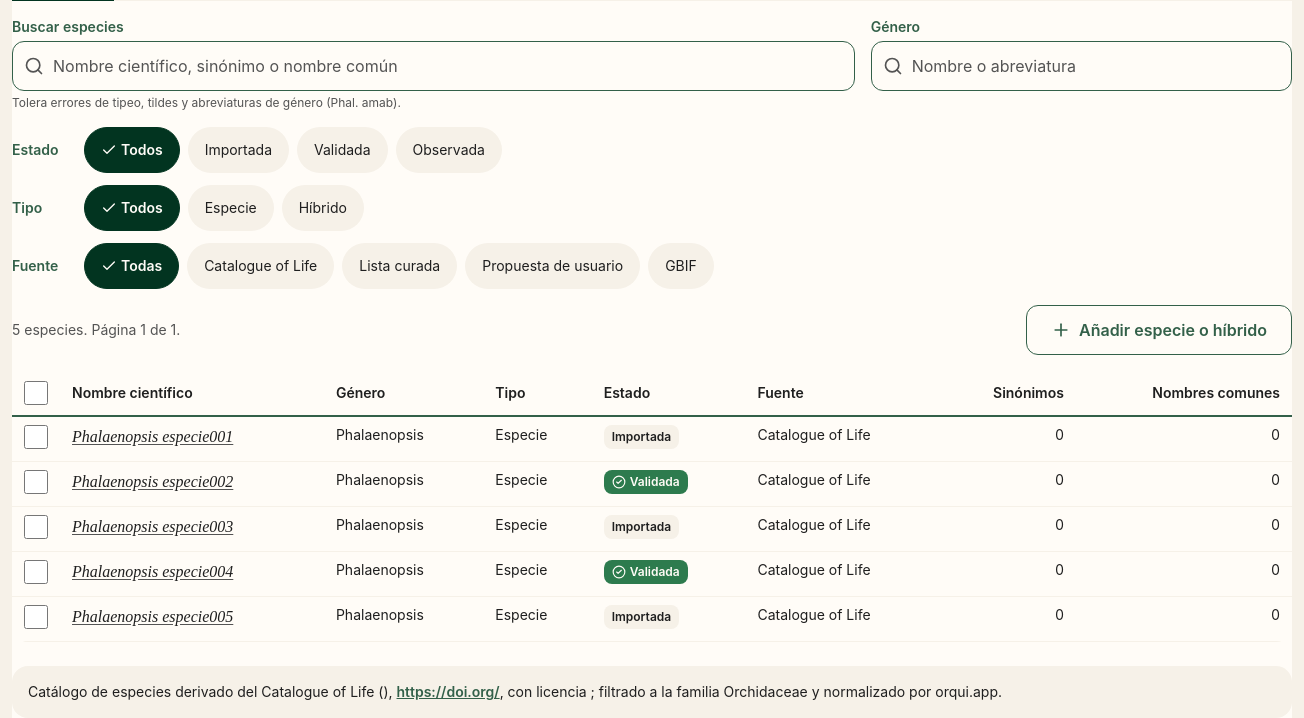
Test: Backoffice: escritura de especies › edición: el cambio de solo el estado no pide confirmación
(page scrolled)
Click the link "Phalaenopsis especie001": (153, 436) left=72, top=428, right=233, bottom=445
(page scrolled)
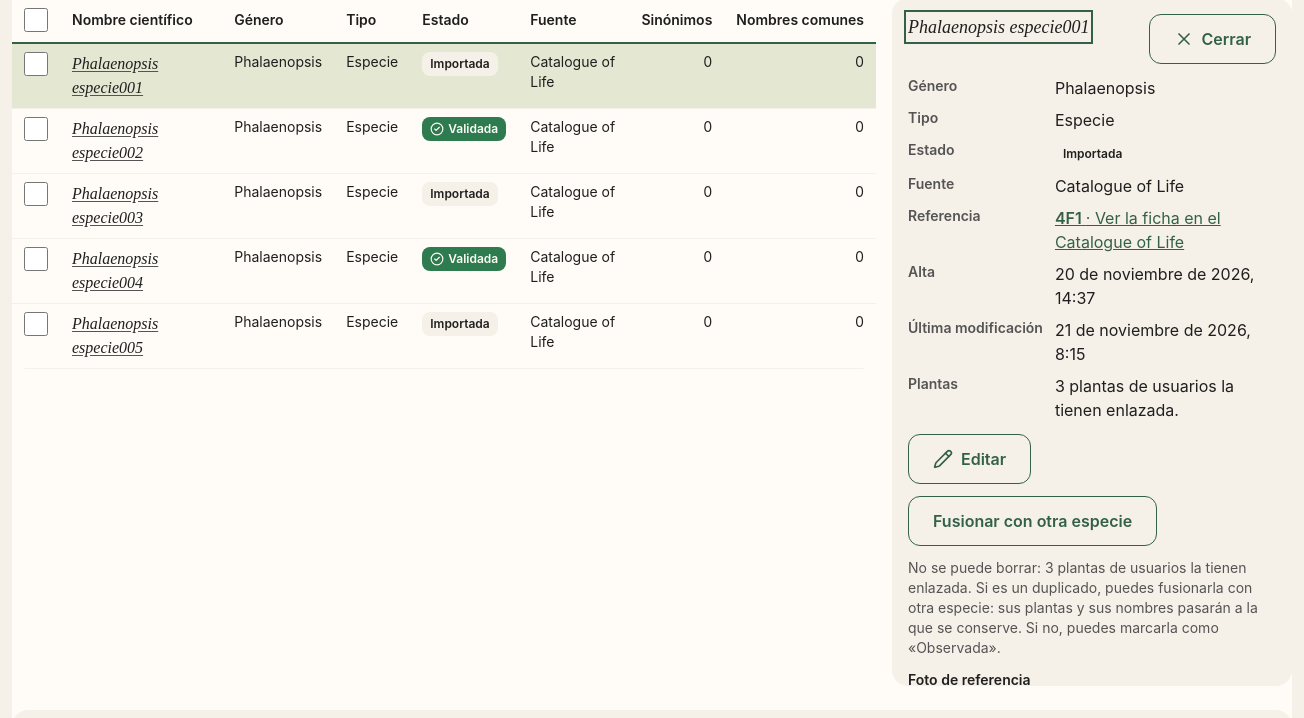
Click the button named "Editar la especie": (970, 459) left=908, top=434, right=1031, bottom=484
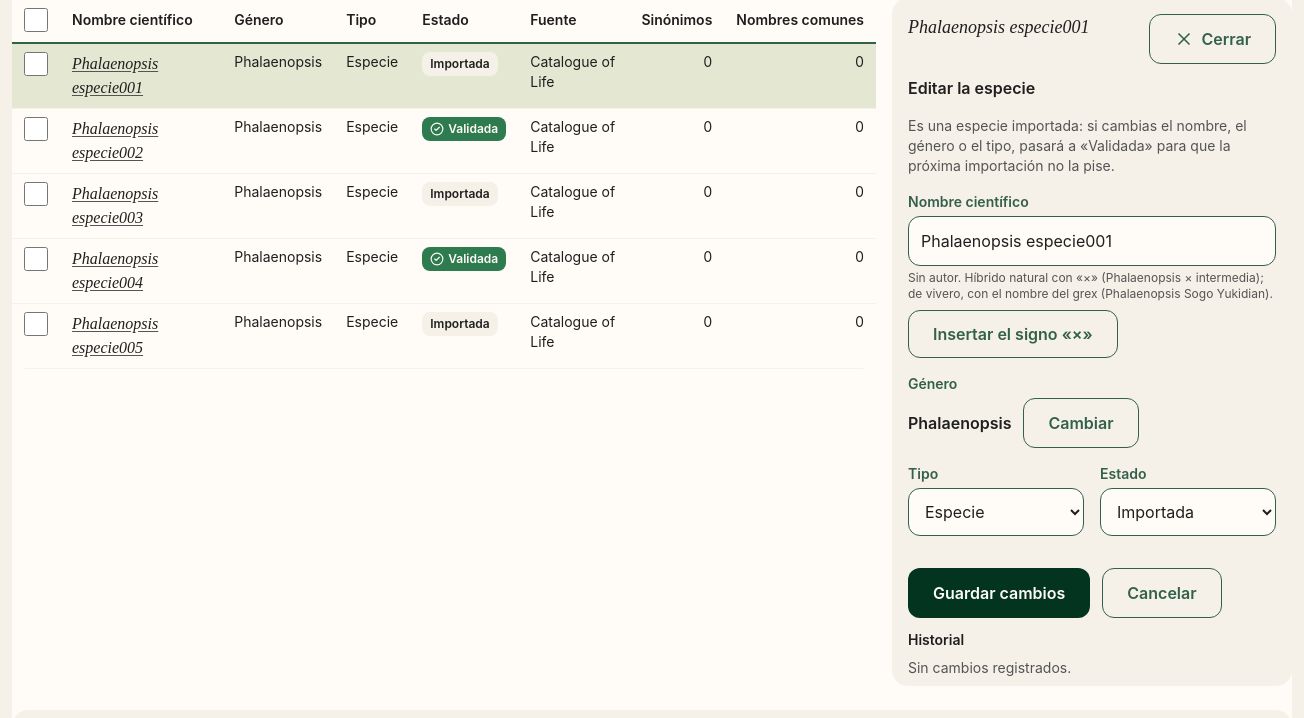
Select "Observada" in the dropdown labelled "Estado": (1188, 512) left=1100, top=488, right=1276, bottom=536
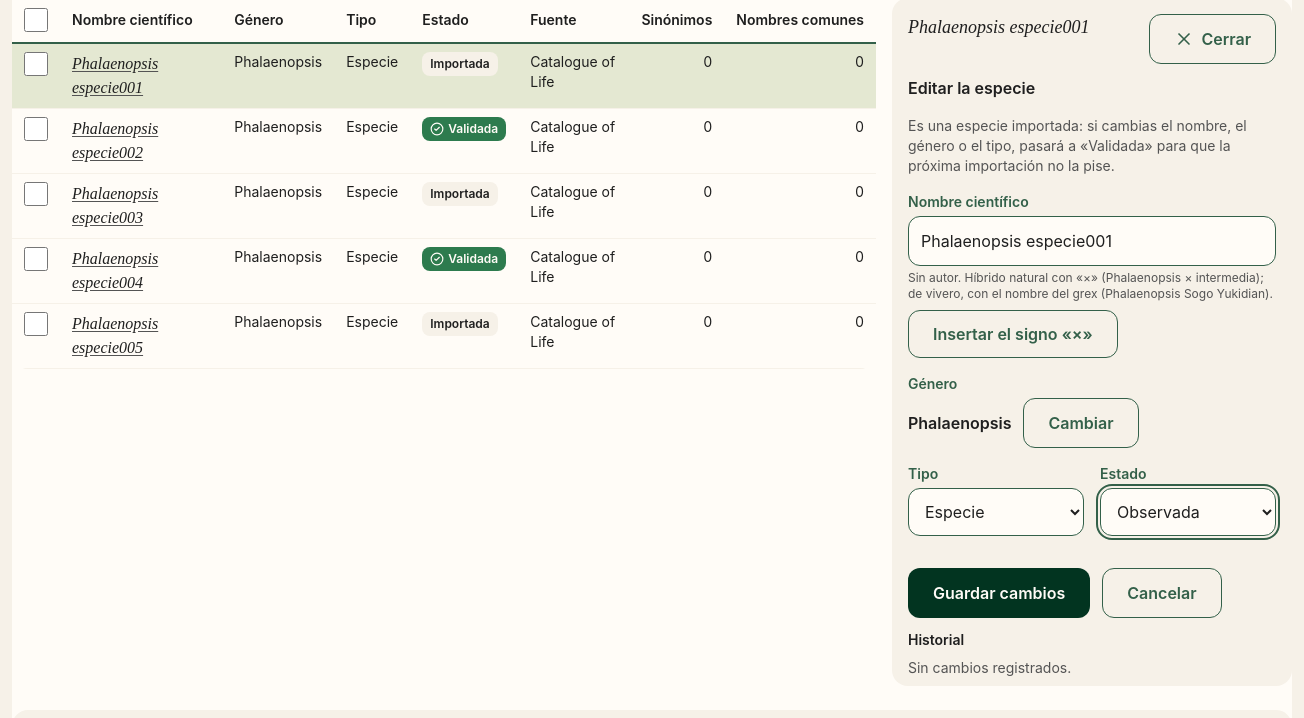
Click the button "Guardar cambios": (999, 593) left=908, top=568, right=1090, bottom=618
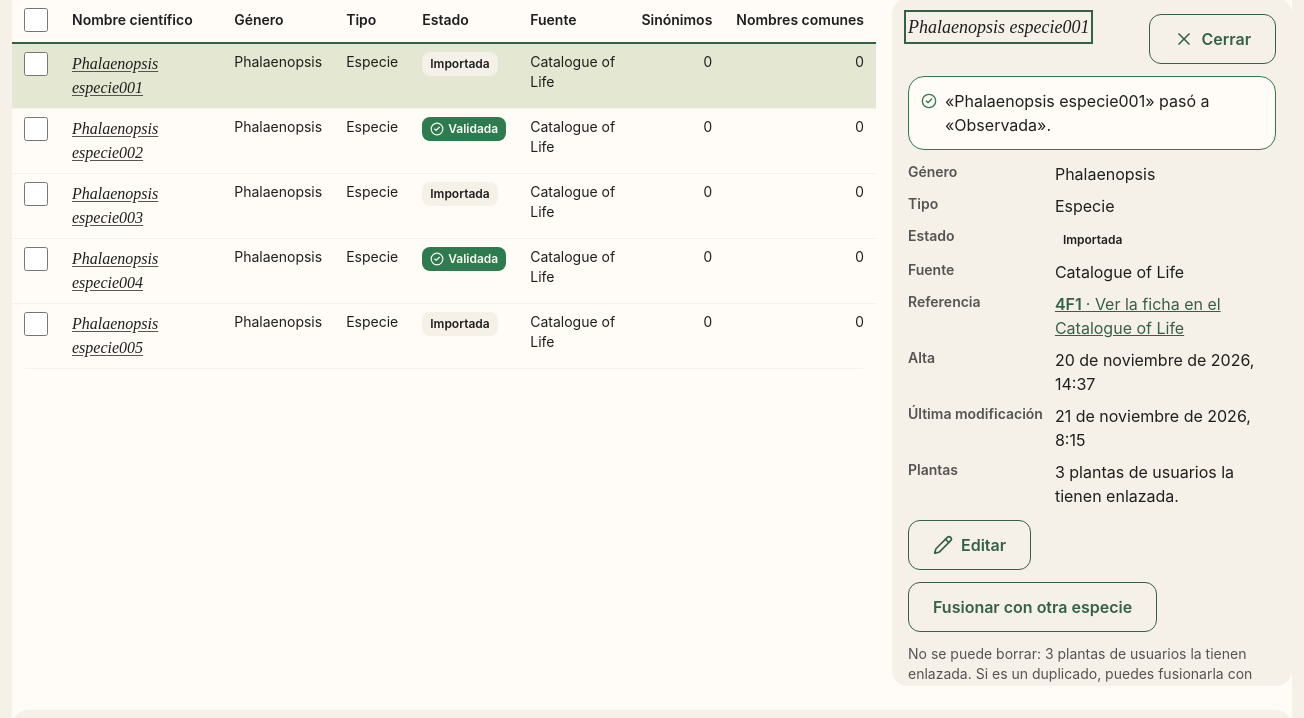
Check: the text "«Phalaenopsis especie001» pasó a «Observada»." is shown 2 times
